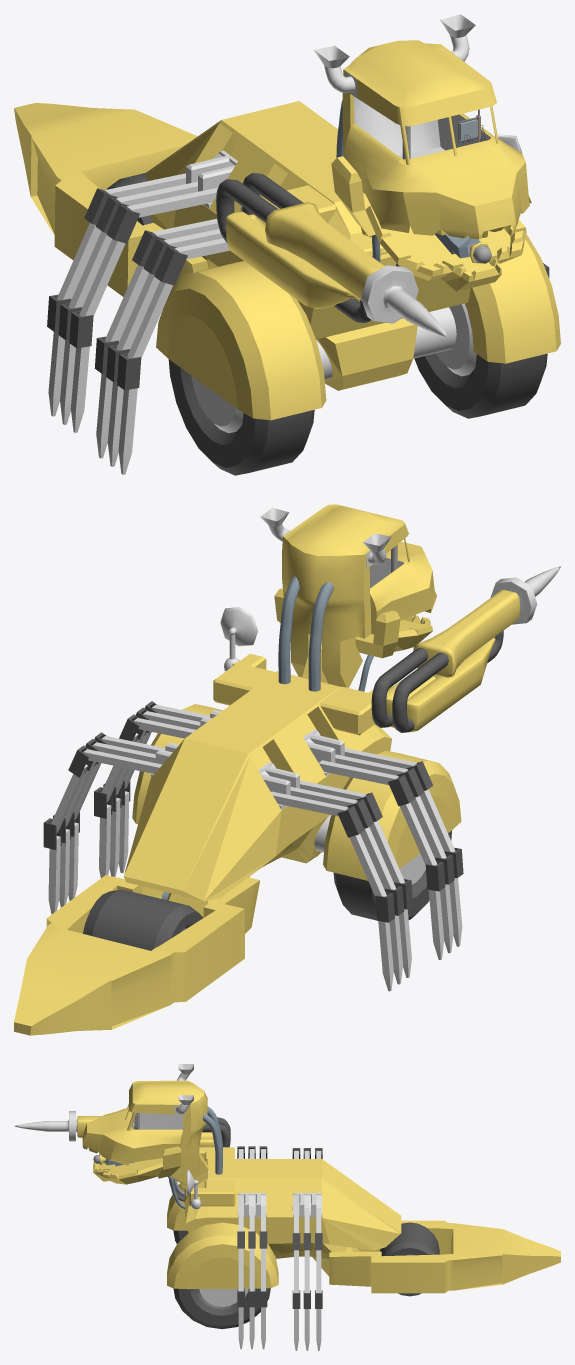
File: Drillydrilltest.fbx
The picture shows the model from 3 angles, top to bottom: view 1: azimuth 30°, elevation 25°; view 2: azimuth 150°, elevation 25°; view 3: azimuth 270°, elevation 25°; orthographic projection. The views are drawn at different scales.
Parts seen in each view (by area): view 1: head1, body, wheelwaterthingy, backtail, wheelwaterthingy1, pCylinder40, jaw, pCylinder38, pCube42, case1, drilltopmove, pCube26 (×2) (+19 smaller); view 2: body, backtail, head1, wheelwaterthingy, pCylinder39, pCube42, case1, pCube34 (×4), pCube32 (×4), bottom2 (×3), jaw, pCylinder40 (+16 smaller); view 3: body, backtail, head1, wheelwaterthingy1, pCylinder38, jaw, pCylinder39, armleft_, drilltopmove, winghold, winghold1, wheelwaterthingy (+1 smaller).
Part boxes in pixels (<box>): head1: <box>342,40,531,239</box>; body: <box>146,101,470,390</box>; wheelwaterthingy: <box>156,261,326,420</box>; backtail: <box>14,103,208,296</box>; wheelwaterthingy1: <box>465,234,560,363</box>; pCylinder40: <box>168,359,314,475</box>; jaw: <box>331,156,526,291</box>; pCylinder38: <box>414,303,547,418</box>; pCube42: <box>265,202,384,300</box>; case1: <box>226,211,356,308</box>; drilltopmove: <box>361,265,447,336</box>; pCube26 (×2): <box>79,239,172,358</box>; body: <box>123,671,391,917</box>; backtail: <box>14,875,260,1035</box>; head1: <box>282,504,436,687</box>; wheelwaterthingy: <box>323,750,461,880</box>; pCylinder39: <box>83,889,203,950</box>; pCube42: <box>413,589,520,677</box>; case1: <box>386,637,495,732</box>; pCube34 (×4): <box>48,804,444,991</box>; pCube32 (×4): <box>59,797,453,984</box>; bottom2 (×3): <box>83,749,398,816</box>; jaw: <box>274,588,432,658</box>; pCylinder40: <box>333,830,451,920</box>; body: <box>184,1159,401,1276</box>; backtail: <box>329,1220,560,1293</box>; head1: <box>82,1080,207,1185</box>; wheelwaterthingy1: <box>167,1222,278,1289</box>; pCylinder38: <box>173,1288,270,1329</box>; jaw: <box>93,1146,180,1184</box>; pCylinder39: <box>380,1222,439,1296</box>; armleft_: <box>189,1180,235,1206</box>; drilltopmove: <box>14,1111,77,1141</box>; winghold: <box>293,1193,322,1217</box>; winghold1: <box>238,1193,266,1217</box>; wheelwaterthingy: <box>167,1183,187,1230</box>.
Size of the model in its own units: 589 by 565 by 1282.
